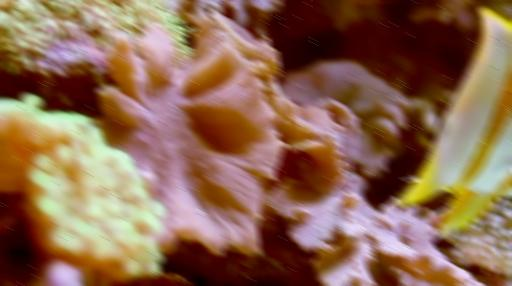Fish: (400, 38, 511, 235)
